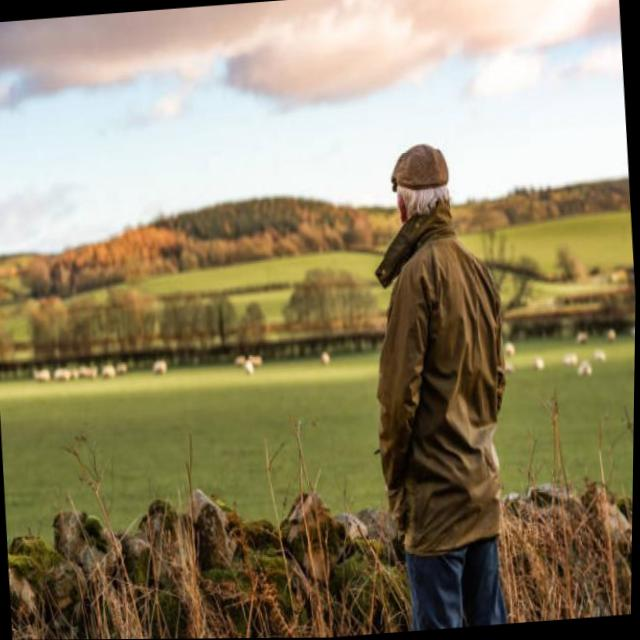no helmet: (368, 137, 462, 254)
